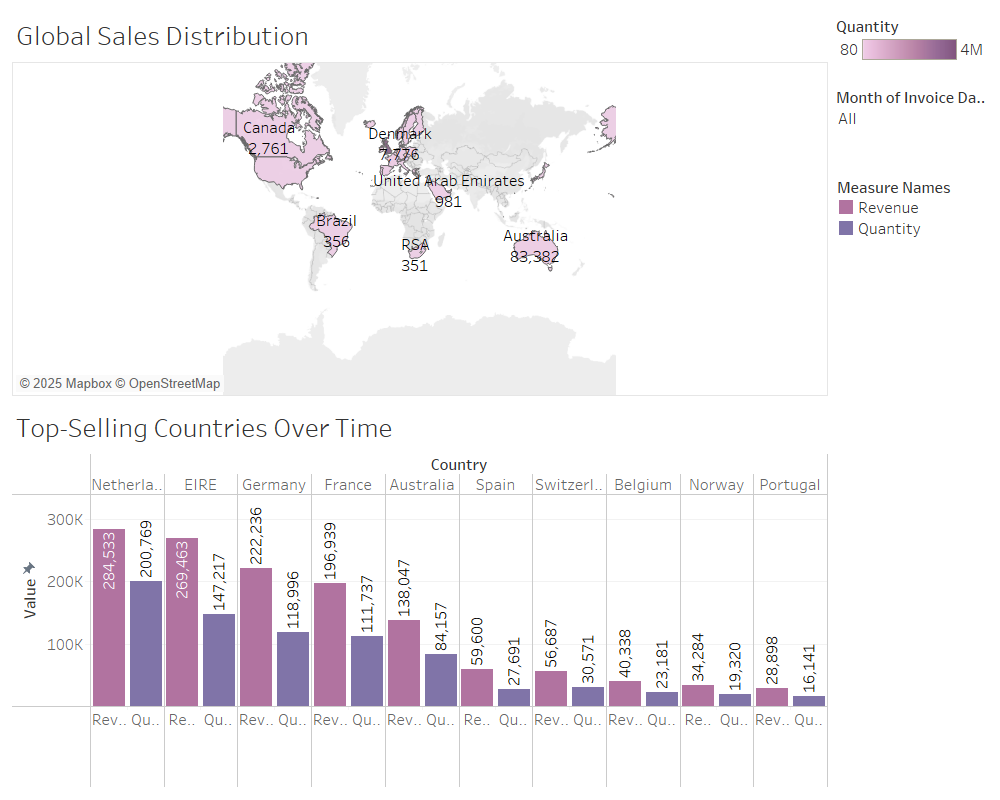

This screenshot's page, from the dashboard's own definition file:
{"tool":"tableau","page":{"name":"Dashboard 2","canvas":[1000,800],"ordinal":1},"visuals":[{"type":"worksheet","title":"Global Sales Trend","mark":"Automatic","box":[8,8,824,392]},{"type":"legend","title":"Global Sales Trend","param":"[federated.1n496030k3j2dy1acgvl31y3k4kw].[sum:Quantity:qk]","box":[832,8,160,73]},{"type":"filter","title":"Top Selling Countries","param":"[federated.1n496030k3j2dy1acgvl31y3k4kw].[mn:InvoiceDate:ok]","box":[832,81,160,89]},{"type":"legend","title":"Top Selling Countries","param":"[federated.1n496030k3j2dy1acgvl31y3k4kw].[:Measure Names]","box":[832,170,160,72]},{"type":"worksheet","title":"Top Selling Countries","mark":"Bar","cols":["Country"],"box":[8,400,824,392]}]}

Visuals, with their boxes in screenshot pixels (x1, y1, x2, y2), scaled from the page's 1000x800 canvas onto the 1000x800 screenshot:
"Global Sales Trend" worksheet: (x1=8, y1=8, x2=832, y2=400)
"Global Sales Trend" legend: (x1=832, y1=8, x2=992, y2=81)
"Top Selling Countries" filter: (x1=832, y1=81, x2=992, y2=170)
"Top Selling Countries" legend: (x1=832, y1=170, x2=992, y2=242)
"Top Selling Countries" worksheet (Bar marks): (x1=8, y1=400, x2=832, y2=792)
